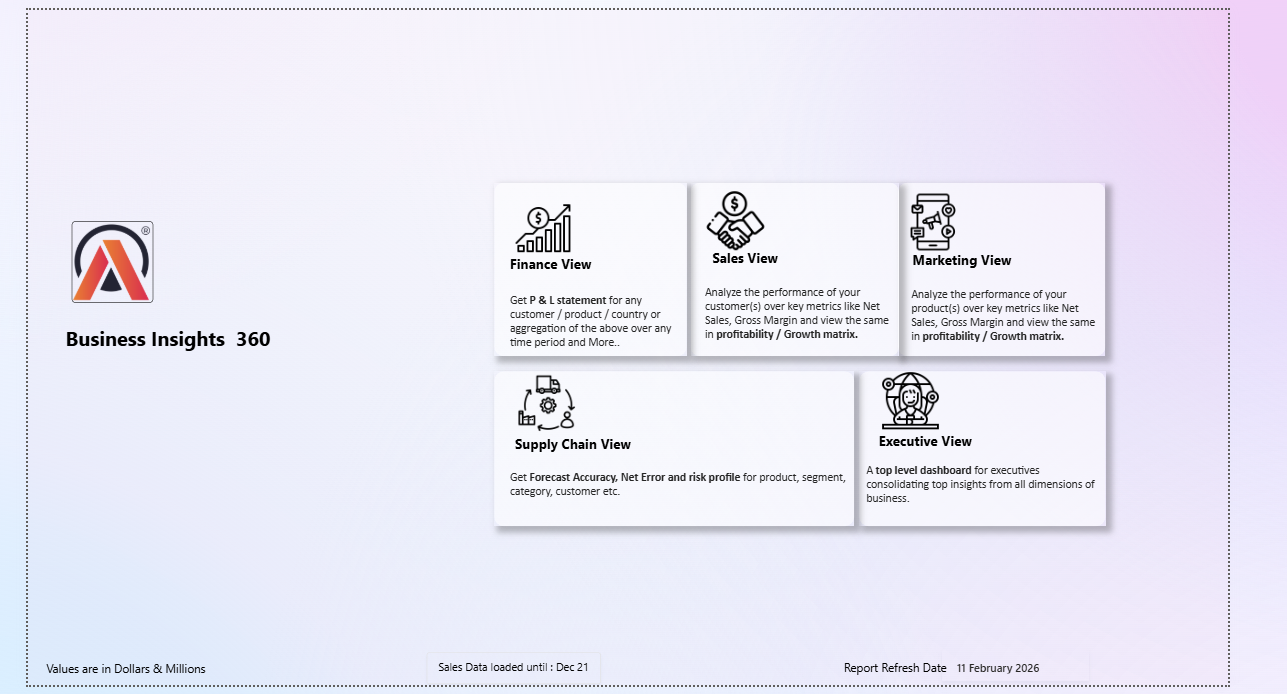

Layout of this report page (visuals, bound fields, positions):
{"tool":"powerbi","page":{"name":"Home","canvas":[1920,1080],"ordinal":0},"visuals":[{"type":"shape","box":[1392,276,332,278],"z":0},{"type":"shape","box":[1060,276,334,278],"z":1000},{"type":"shape","box":[746,276,308,278],"z":2000},{"type":"shape","box":[1330,578,394,248],"z":3000},{"type":"shape","box":[746,578,576,248],"z":4000},{"type":"image","box":[780,582,100,94],"z":5000},{"type":"image","box":[1362,578,100,94],"z":6000},{"type":"image","box":[1398,292,100,94],"z":7000},{"type":"image","box":[774,302,100,94],"z":8000},{"type":"image","box":[1082,290,100,94],"z":9000},{"type":"textbox","box":[0,498,448,56],"z":10000},{"type":"textbox","box":[766,386,178,40],"z":11000},{"type":"textbox","box":[1090,376.4,146,40],"z":12000},{"type":"textbox","box":[1410,380,204,48],"z":13000},{"type":"textbox","box":[1356,670,224,40],"z":14000},{"type":"textbox","box":[774,674,228,40],"z":15000},{"type":"textbox","box":[766,448,292,102],"z":16000},{"type":"textbox","box":[1078,418.4,314,130],"z":17000},{"type":"textbox","box":[1408,420,308,126],"z":18000},{"type":"textbox","box":[766,714,550,112],"z":19000},{"type":"textbox","box":[1336,702,378,110],"z":20000},{"type":"cardVisual","fields":{"Data":["Min(Report_Refresh_Date.Report Last Refreshed)"]},"box":[1462,1024,236,50],"z":21000},{"type":"textbox","box":[1300,1034,194,40],"z":22000},{"type":"card","fields":{"Values":["Key Measures.Last Sales Month Footer"]},"box":[638,1028,278,50],"z":23000},{"type":"image","box":[70,338,130,130],"z":24000},{"type":"textbox","box":[24,1036,318,38],"z":25000}]}

Visuals, with their boxes on the page's 1920x1080 design canvas (x1, y1, x2, y2). These are canvas units, not pixel positions in the 1287x694 screenshot, which may show the page scaled, cropped or inside an application window:
shape: rect(1392, 276, 1724, 554)
shape: rect(1060, 276, 1394, 554)
shape: rect(746, 276, 1054, 554)
shape: rect(1330, 578, 1724, 826)
shape: rect(746, 578, 1322, 826)
image: rect(780, 582, 880, 676)
image: rect(1362, 578, 1462, 672)
image: rect(1398, 292, 1498, 386)
image: rect(774, 302, 874, 396)
image: rect(1082, 290, 1182, 384)
textbox: rect(0, 498, 448, 554)
textbox: rect(766, 386, 944, 426)
textbox: rect(1090, 376, 1236, 416)
textbox: rect(1410, 380, 1614, 428)
textbox: rect(1356, 670, 1580, 710)
textbox: rect(774, 674, 1002, 714)
textbox: rect(766, 448, 1058, 550)
textbox: rect(1078, 418, 1392, 548)
textbox: rect(1408, 420, 1716, 546)
textbox: rect(766, 714, 1316, 826)
textbox: rect(1336, 702, 1714, 812)
cardVisual - Min(Report_Refresh_Date.Report Last Refreshed): rect(1462, 1024, 1698, 1074)
textbox: rect(1300, 1034, 1494, 1074)
card - Key Measures.Last Sales Month Footer: rect(638, 1028, 916, 1078)
image: rect(70, 338, 200, 468)
textbox: rect(24, 1036, 342, 1074)
